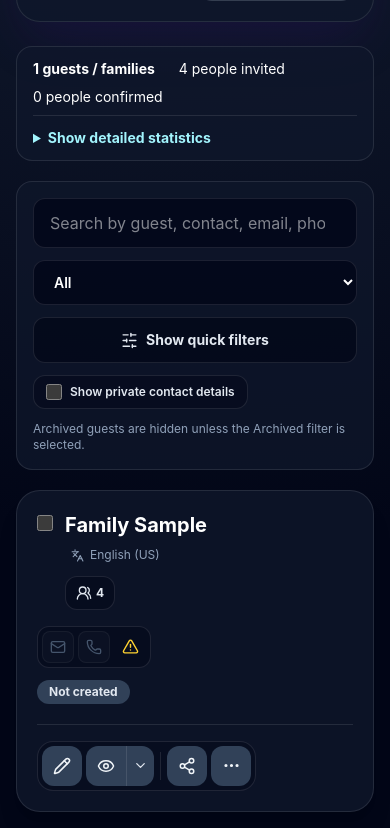
Test: host guest management screen › shows bulk actions after selecting a guest
The image size is (390, 828).
(page scrolled)
Check: the heading "Family Sample" is shown, box [65, 513, 207, 537]
What coordinates should you click on to do the following:
click the checkbox named "Select Family Sample"
I would click on:
 (45, 523)
Its box is [37, 515, 53, 531].
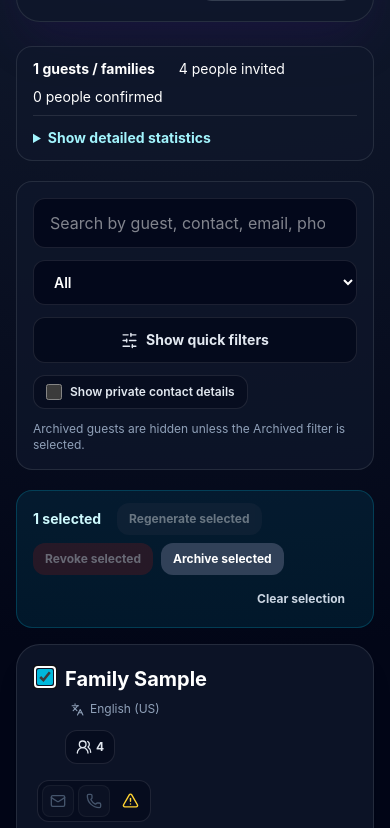
Check: the element named "Bulk actions" is shown, box [16, 490, 374, 628]
Check: the text "1 selected" is shown, box [33, 509, 101, 529]
